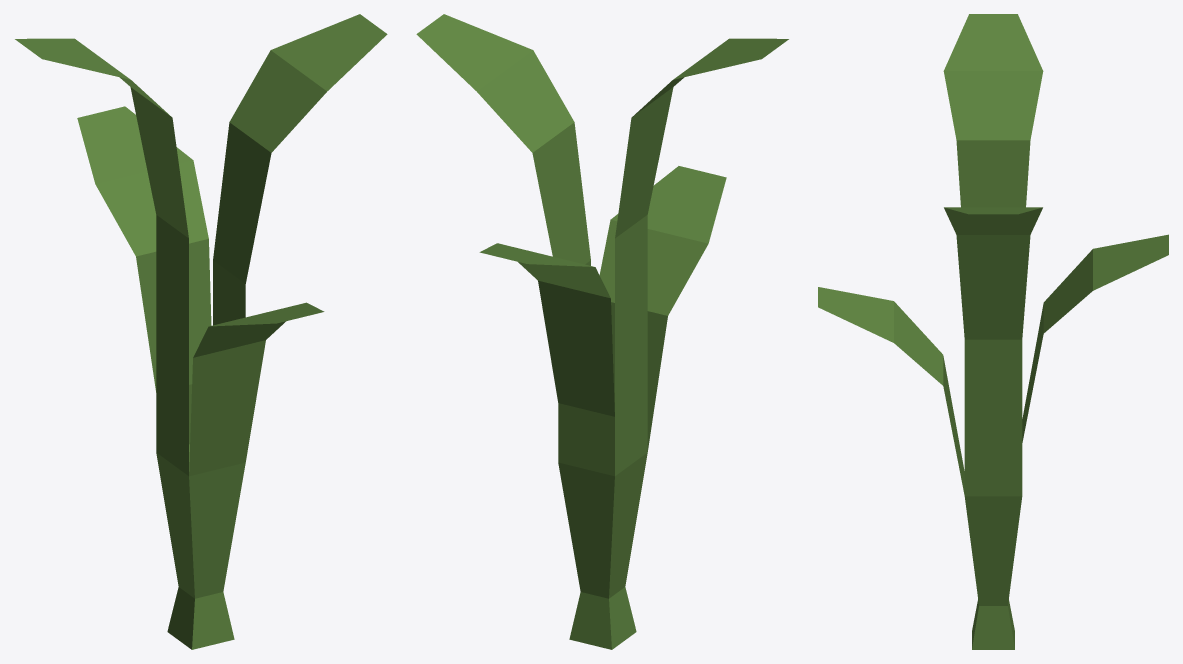
3 views of the same model, side by side, from view 1: azimuth 30°, elevation 25°; view 2: azimuth 150°, elevation 25°; view 3: azimuth 270°, elevation 25° (orthographic). The views are drawn at different scales.
Parts seen in each view (by area): view 1: crops_leafsStageB; view 2: crops_leafsStageB; view 3: crops_leafsStageB.
Part boxes in pixels (x1=…): crops_leafsStageB: x1=15, y1=14, x2=387, y2=649; crops_leafsStageB: x1=416, y1=14, x2=788, y2=649; crops_leafsStageB: x1=818, y1=14, x2=1168, y2=649.
Bounding box in the file's own units: 0.3894 × 0.6771 × 0.3894.
